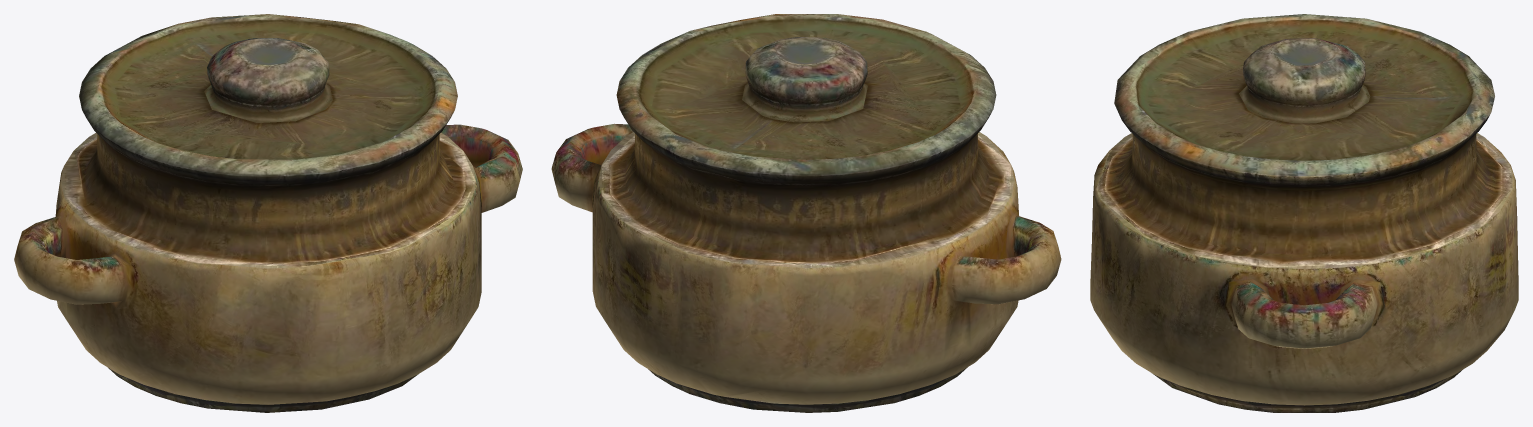
Rendered from ceramic_pot.glb.
3 views of the same model, side by side, from view 1: azimuth 30°, elevation 25°; view 2: azimuth 150°, elevation 25°; view 3: azimuth 270°, elevation 25° (orthographic).
Visible parts, largest first — view 1: ceramic_pot; view 2: ceramic_pot; view 3: ceramic_pot.
Boxes of the visible parts, x1,y1,x2,y2 form: ceramic_pot: (14,14,522,412); ceramic_pot: (551,14,1061,412); ceramic_pot: (1090,14,1518,412).
Size of the model in its own units: 0.6563 by 0.3717 by 0.4989.
Materials: 1 (1 with a texture image).
